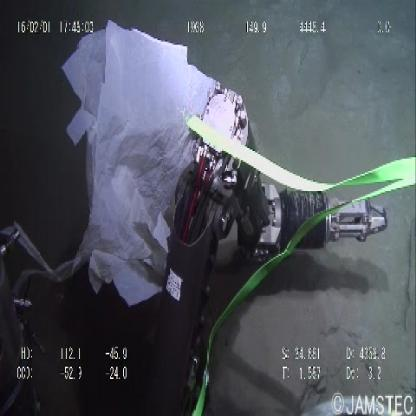Rov: (157, 79, 395, 384)
Rác: (54, 19, 209, 310)
